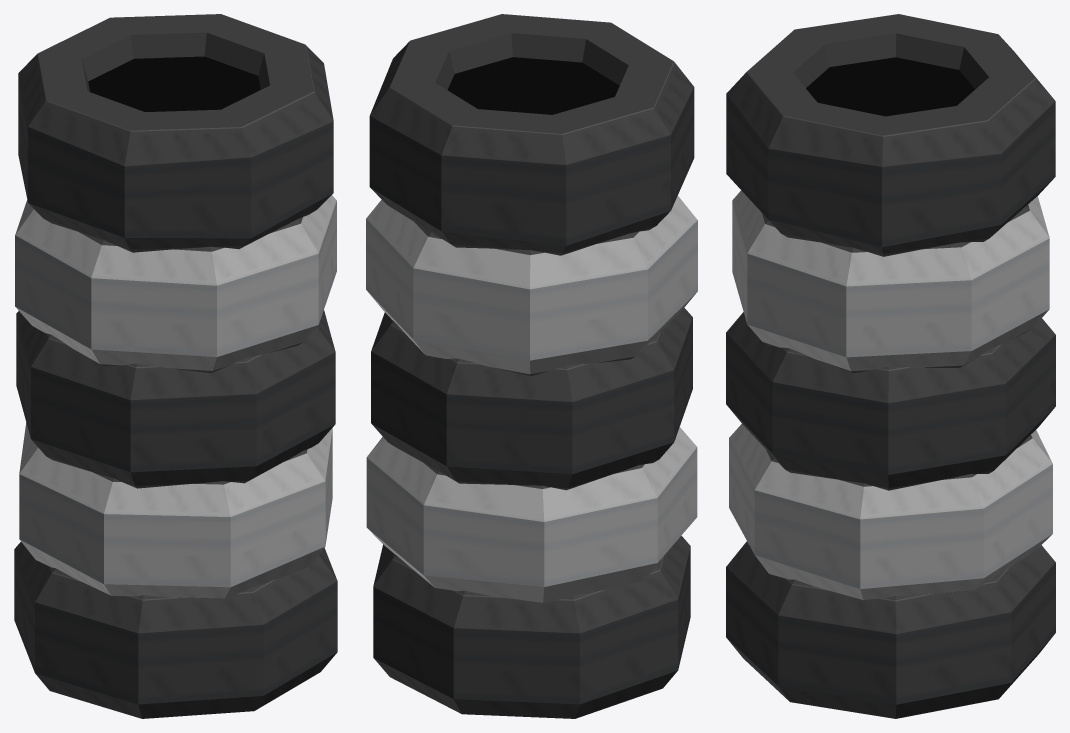
The model's file is SM_Prop_Tyre_Stack_01.fbx.
3 renders of one model, left to right at view 1: azimuth 30°, elevation 25°; view 2: azimuth 150°, elevation 25°; view 3: azimuth 270°, elevation 25°, orthographic.
Visible parts, largest first — view 1: SM_Prop_Tyre_Stack_01; view 2: SM_Prop_Tyre_Stack_01; view 3: SM_Prop_Tyre_Stack_01.
Boxes of the visible parts, bbox=[...] form: SM_Prop_Tyre_Stack_01: bbox=[14, 14, 337, 718]; SM_Prop_Tyre_Stack_01: bbox=[366, 14, 697, 718]; SM_Prop_Tyre_Stack_01: bbox=[726, 14, 1055, 718].
Bounding box in the file's own units: 63.72 × 124 × 63.72.
